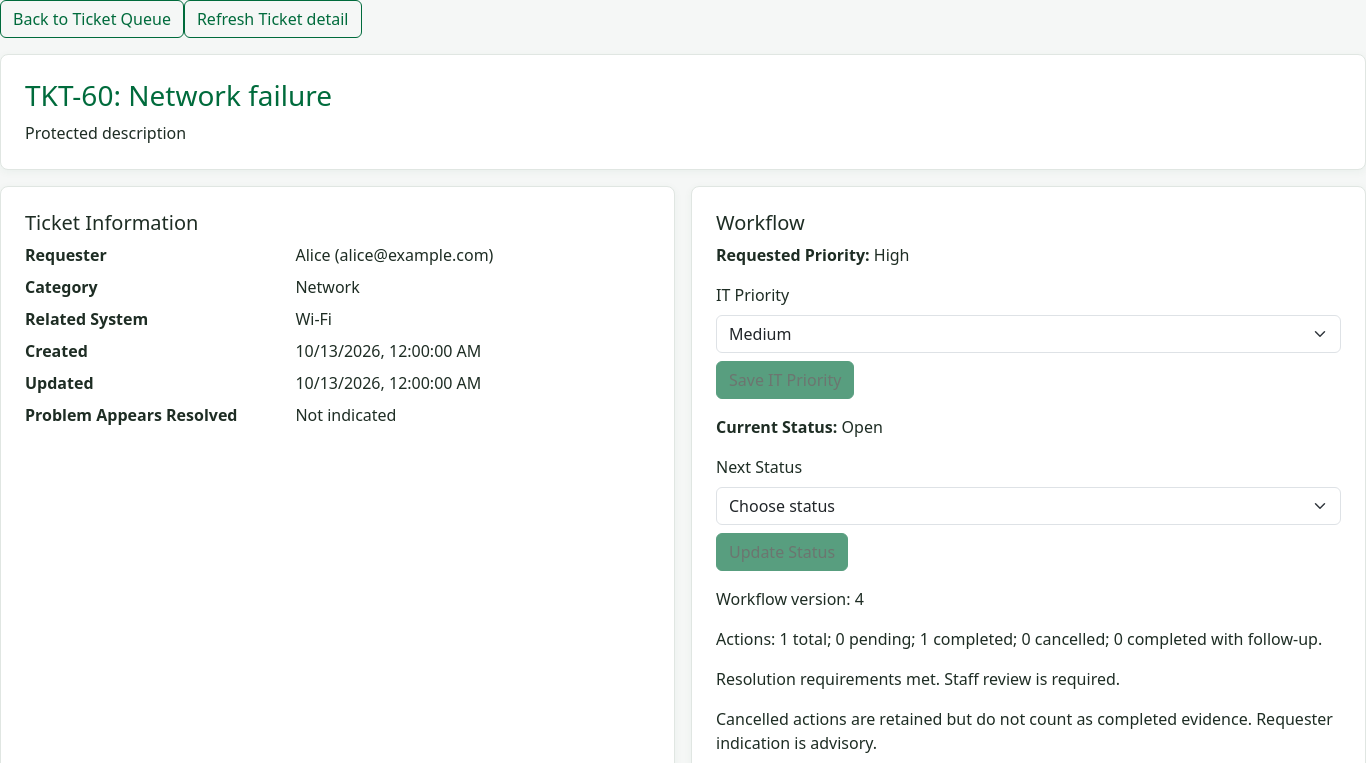
it: Issue #60 workflow controls › keeps workflow paused after failed conflict refresh
This screenshot has width=1366, height=763.
Step 1. Select "Resolved" in the dropdown labelled "Next Status" → (1028, 506), box [716,487,1341,525]
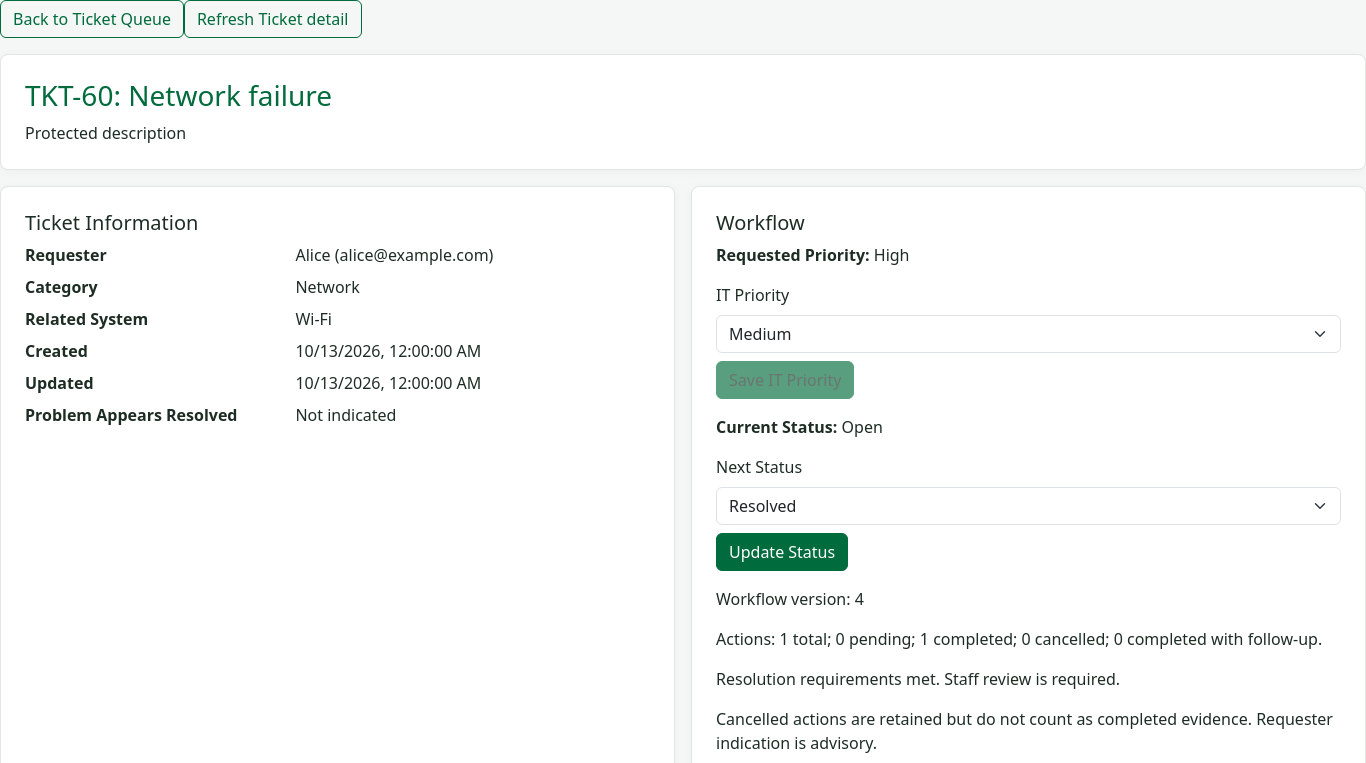
Step 2. Click the button "Update Status" → click(782, 552), box [716,533,848,571]
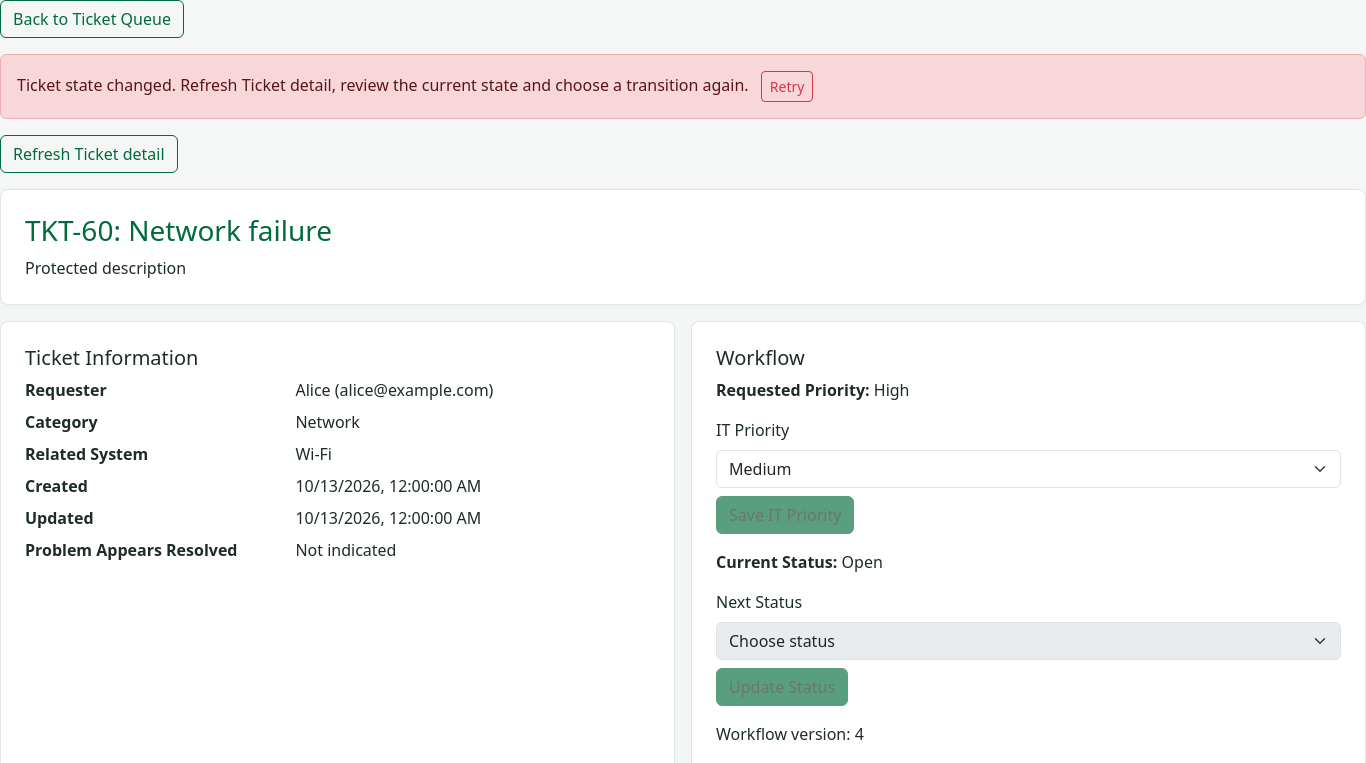
Expected: the text "Ticket state changed" is shown, [17,74,749,96]
Step 3. Click the button "Refresh Ticket detail" → click(89, 154), box [0,135,178,173]
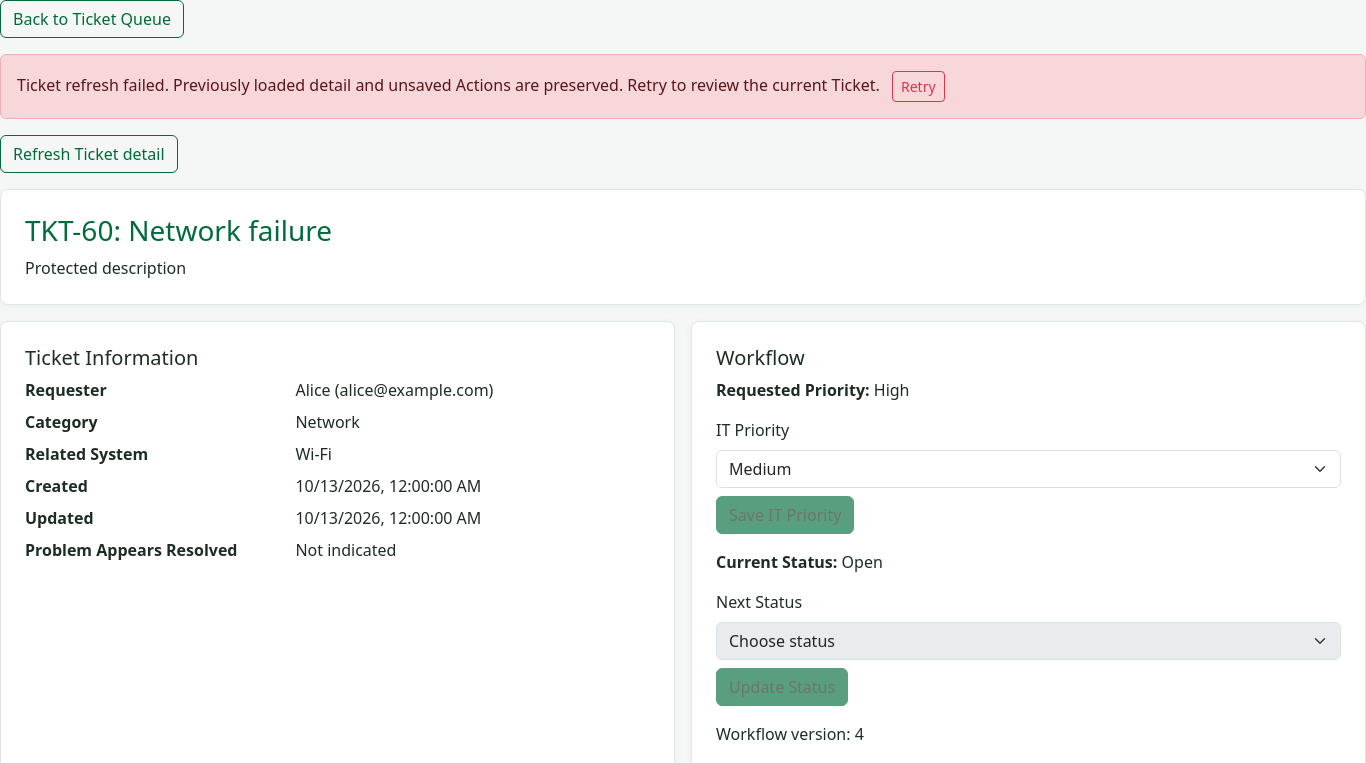
Expected: the dropdown labelled "Next Status" is disabled, [716,622,1341,660]
Expected: the text "Ticket refresh failed" is shown, [17,74,880,96]
